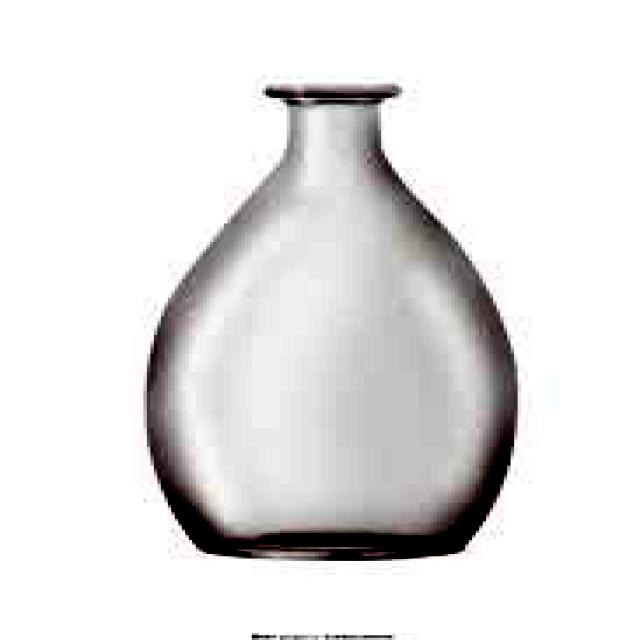Glass: (140, 80, 521, 564)
